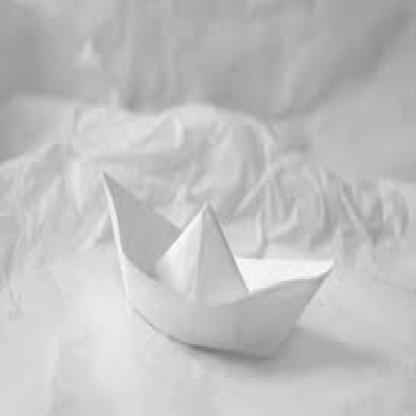paper: (0, 0, 415, 415), (99, 168, 334, 358)
